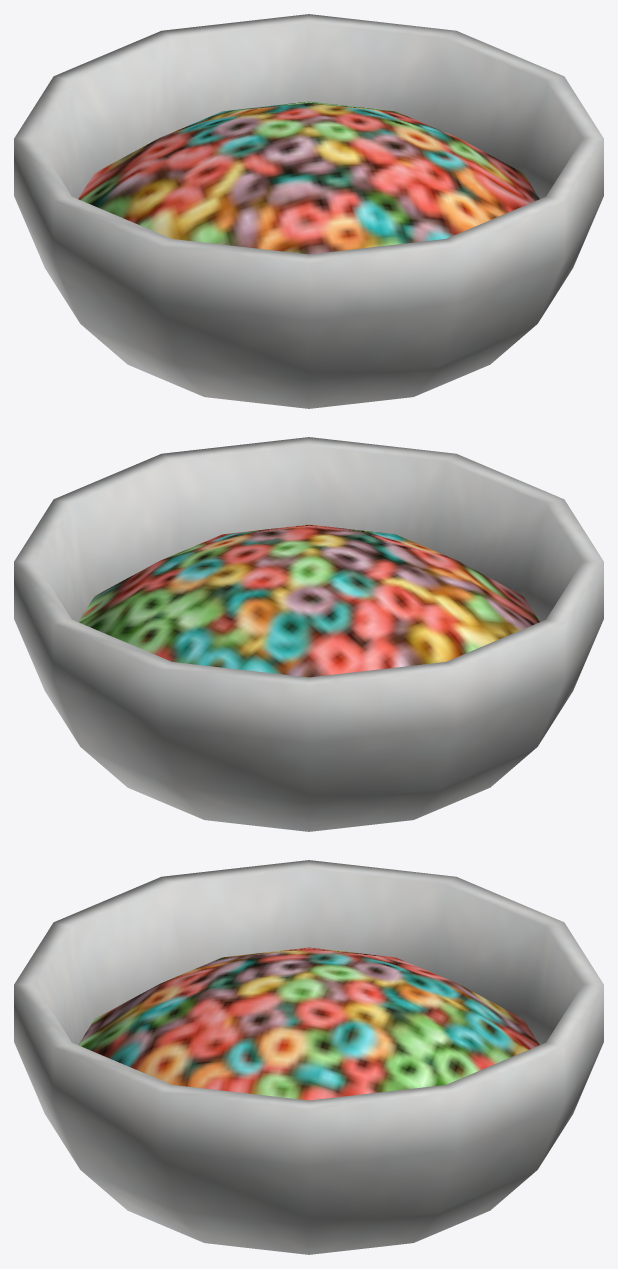
File: bowl_01.obj
The picture shows the model from 3 angles, top to bottom: view 1: azimuth 30°, elevation 25°; view 2: azimuth 150°, elevation 25°; view 3: azimuth 270°, elevation 25°; orthographic projection.
Parts seen in each view (by area): view 1: bowl.01; view 2: bowl.01; view 3: bowl.01.
Part boxes in pixels (x1,y1,x2,y2): bowl.01: [14, 14, 603, 408]; bowl.01: [14, 437, 603, 831]; bowl.01: [14, 860, 603, 1254].
Bounding box in the file's own units: 0.2772 × 0.1138 × 0.2772.
